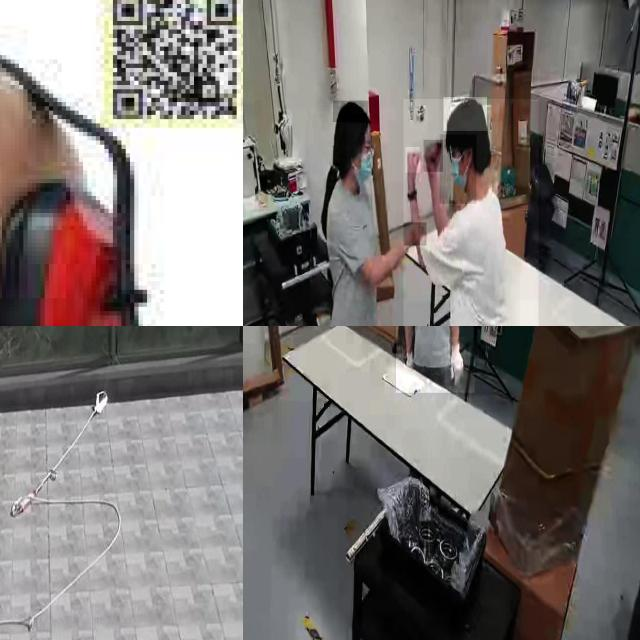Ear-protection: (0, 39, 170, 326)
Harness: (12, 391, 109, 518)
face_mask: (439, 134, 476, 204), (346, 124, 379, 194)
hand_glove: (445, 337, 467, 388)
hand_noglove: (424, 140, 444, 172), (403, 222, 427, 246), (406, 147, 420, 173)
head_nohelmet: (443, 97, 488, 132), (333, 101, 369, 123)
person: (403, 99, 538, 326), (309, 107, 396, 326), (396, 326, 475, 393)
